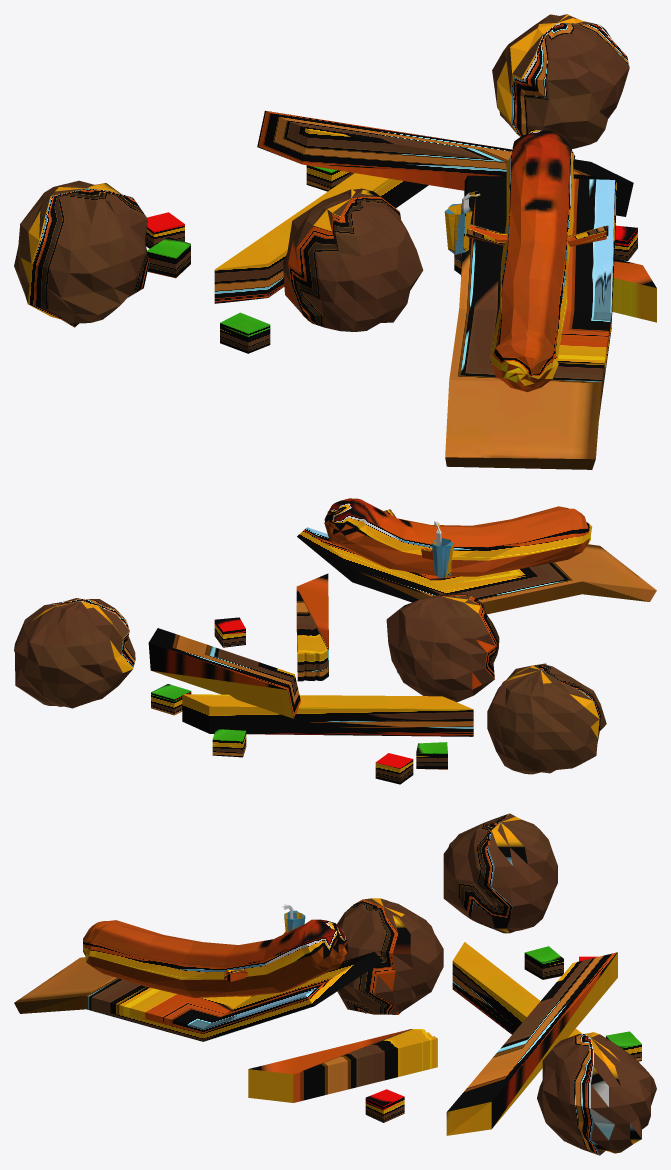
The model's file is Momma.glb.
The picture shows the model from 3 angles, top to bottom: view 1: azimuth 30°, elevation 25°; view 2: azimuth 150°, elevation 25°; view 3: azimuth 270°, elevation 25°; orthographic projection. The views are drawn at different scales.
Parts seen in each view (by area): view 1: Momma; view 2: Momma; view 3: Momma.
Part boxes in pixels (left/top/right/bottom): Momma: left=14, top=14, right=656, bottom=469; Momma: left=14, top=498, right=656, bottom=784; Momma: left=14, top=813, right=656, bottom=1155.
Size of the model in its own units: 207 by 53.8 by 210.
1 material, 1 textured.
